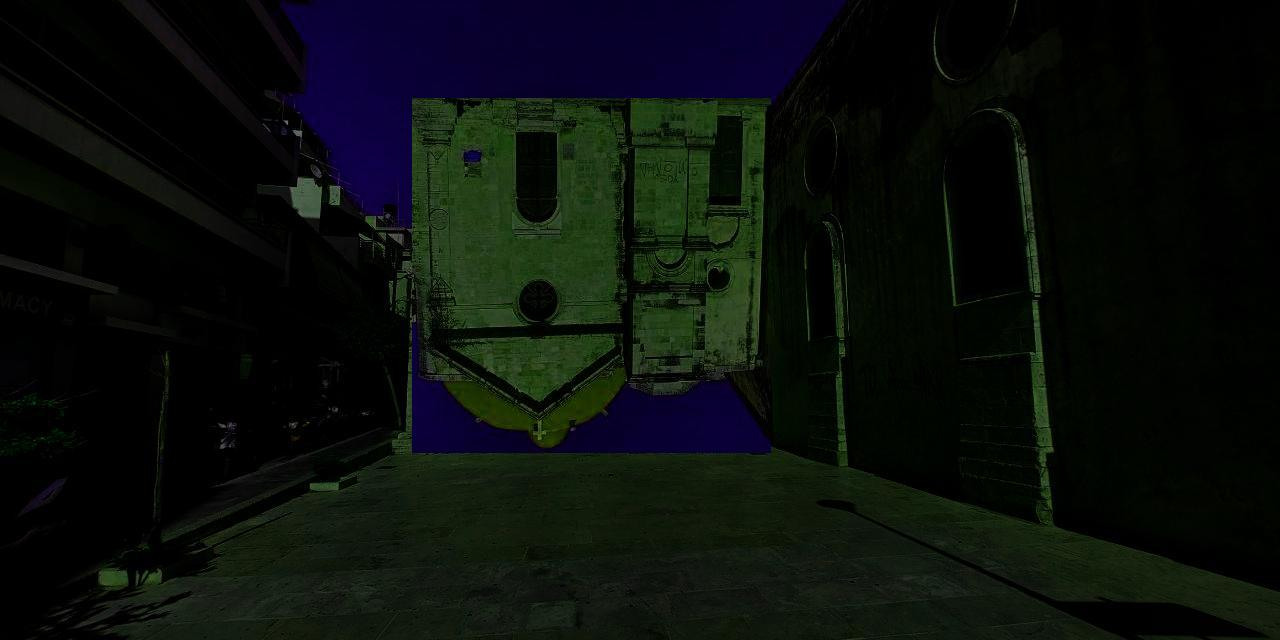Agia Aikaterini: (413, 99, 772, 454)
